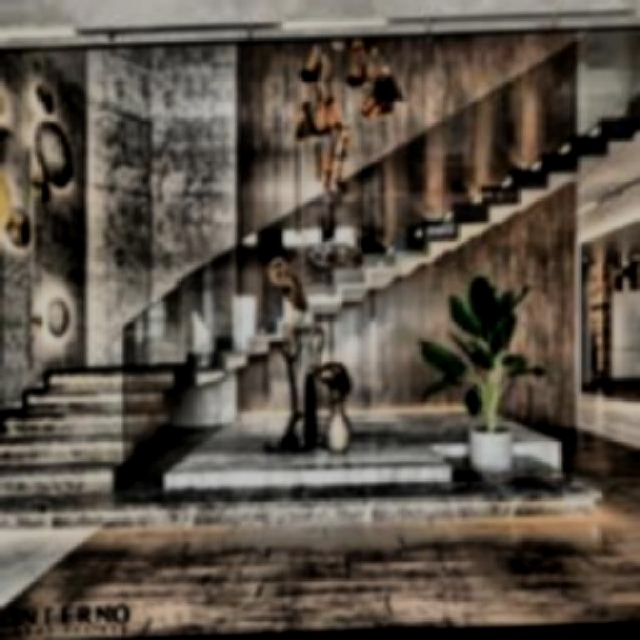stair: (0, 357, 206, 514)
